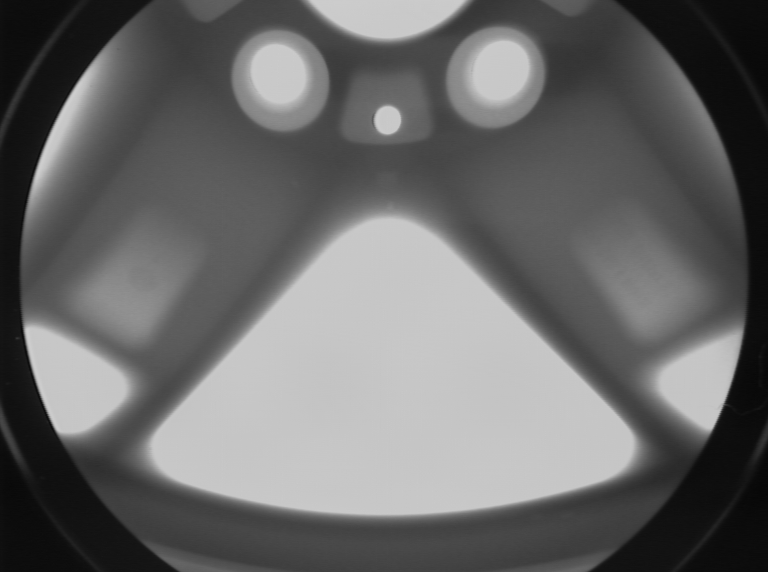defect: (287, 173, 306, 194)
